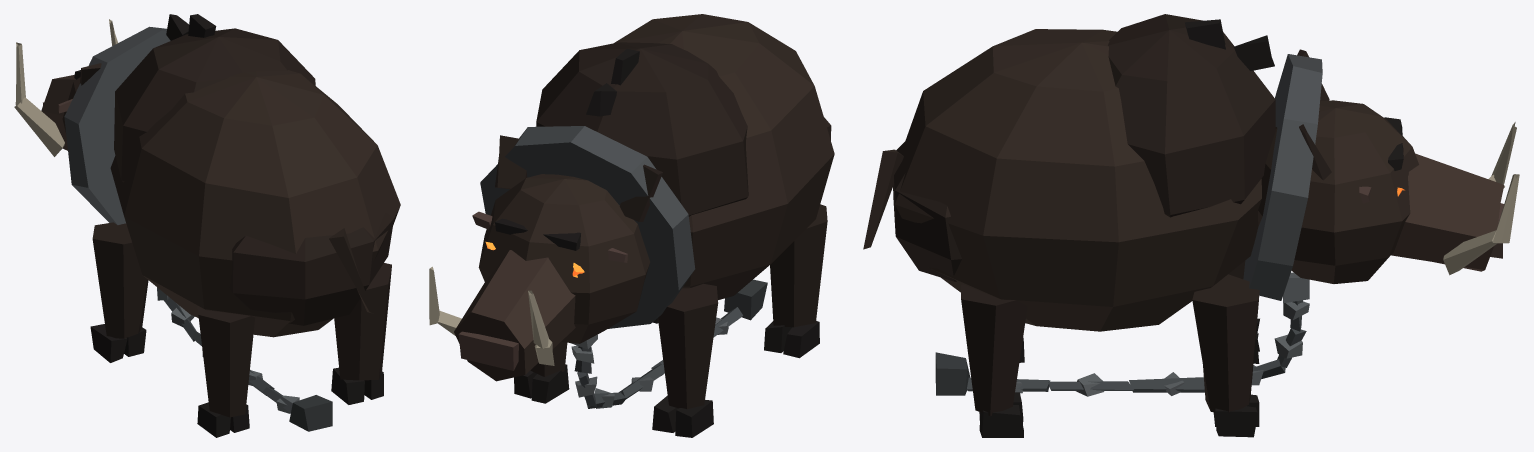
Rendered from creature_boar.glb.
The picture shows the model from 3 angles, left to right: view 1: azimuth 30°, elevation 25°; view 2: azimuth 150°, elevation 25°; view 3: azimuth 270°, elevation 25°; orthographic projection. The views are drawn at different scales.
Parts seen in each view (by area): view 1: Body, Collar, Head, Chain; view 2: Body, Head, Collar, Chain; view 3: Body, Head, Collar, Chain.
Part boxes in pixels (x1,y1,x2,y2): Body: [90, 14, 400, 437]; Collar: [64, 26, 170, 224]; Head: [14, 19, 117, 156]; Chain: [157, 287, 332, 431]; Body: [514, 14, 834, 437]; Head: [429, 135, 662, 381]; Collar: [480, 126, 695, 349]; Chain: [571, 279, 767, 408]; Body: [863, 14, 1275, 437]; Head: [1258, 49, 1519, 283]; Collar: [1243, 54, 1322, 303]; Chain: [935, 300, 1309, 396].
Size of the model in its own units: 1.08 by 1.48 by 2.38.
